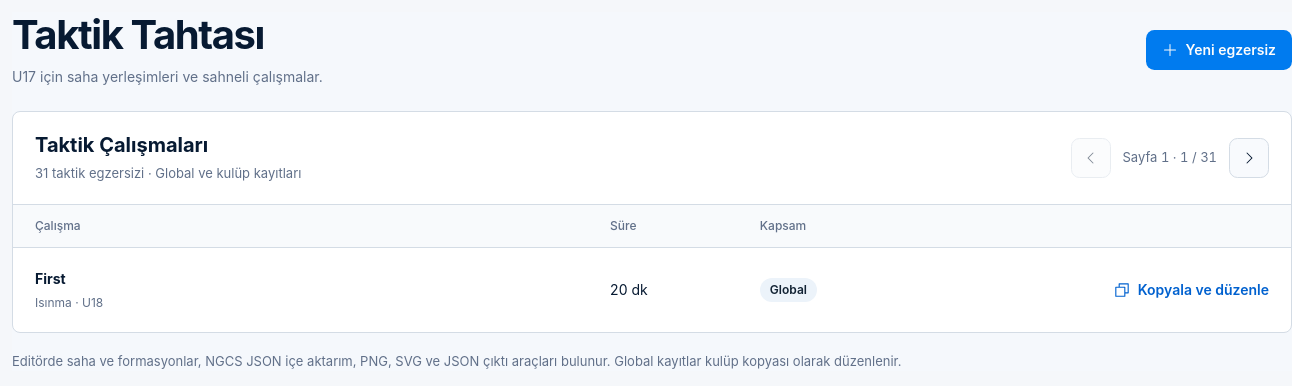
Scenario: independent tactical catalog › uses full totals and scoped register links across pages without filtering by category
Expected: the text "First" is shown, [35,270,66,286]
Expected: the text named "Taktik kapsamı özeti" shows "31 taktik egzersizi", [35,165,144,181]
Click the button named "Sonraki sayfa" at (1249, 158), box [1229,138,1269,178]
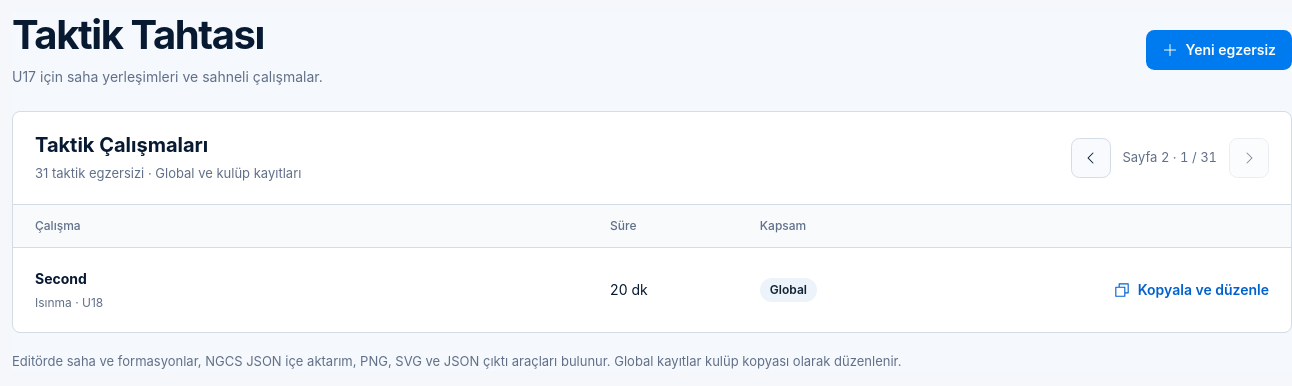
Expected: the text "Second" is shown, [35,270,87,286]
Expected: the text "First" is gone
Expected: the navigation bar reads "Sayfa 2 · 1 / 31", [1070,138,1269,178]
Click the button named "Önceki sayfa" at (1090, 158), box [1070,138,1110,178]
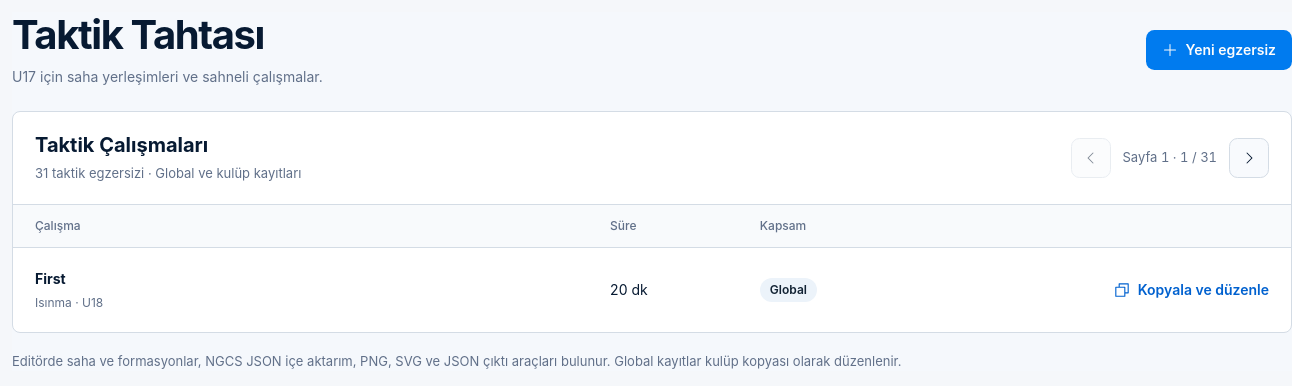
Expected: the text "First" is shown, [35,270,66,286]
